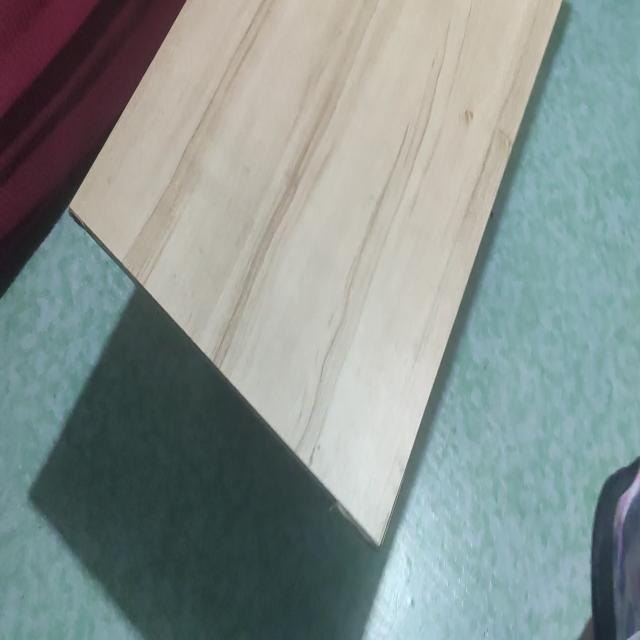table: (62, 0, 569, 541)
